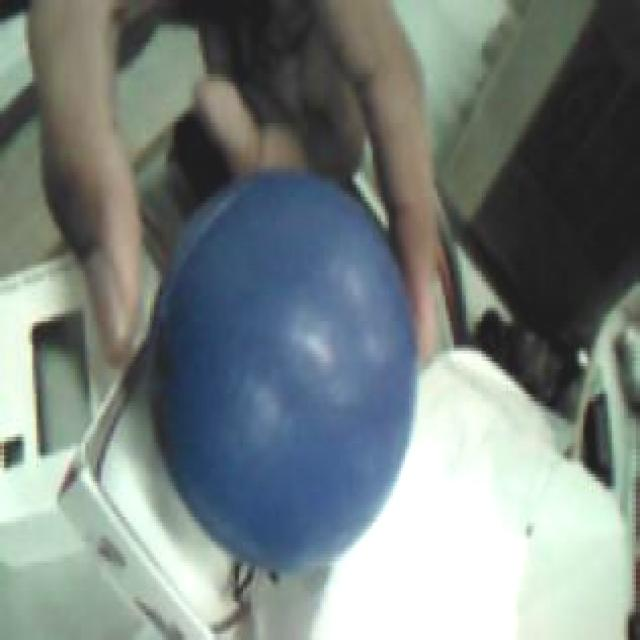BallPurple: (150, 168, 415, 571)
